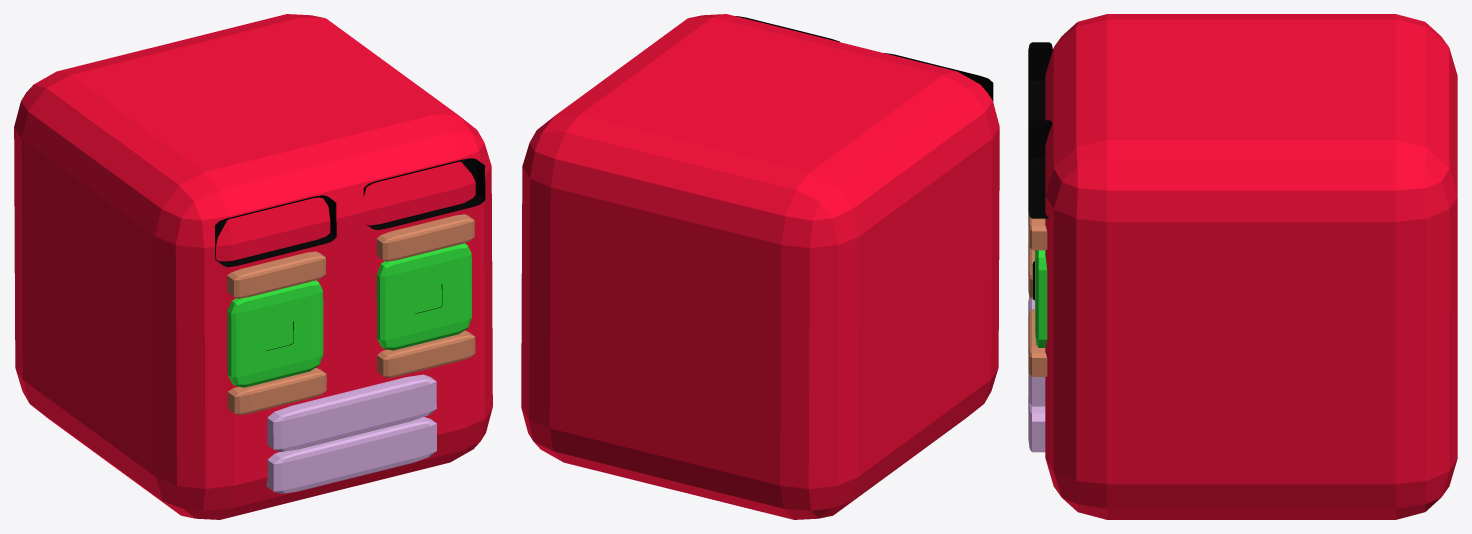
The model's file is angry.glb.
3 renders of one model, left to right at view 1: azimuth 30°, elevation 25°; view 2: azimuth 150°, elevation 25°; view 3: azimuth 270°, elevation 25°, orthographic. The views are drawn at different scales.
Visible parts, largest first — view 1: Cube; view 2: Cube; view 3: Cube.
Part boxes in pixels (x1=…): Cube: x1=14, y1=14, x2=492, y2=519; Cube: x1=521, y1=14, x2=999, y2=519; Cube: x1=1028, y1=14, x2=1457, y2=519.
Size of the model in its own units: 1 by 1 by 1.04.
